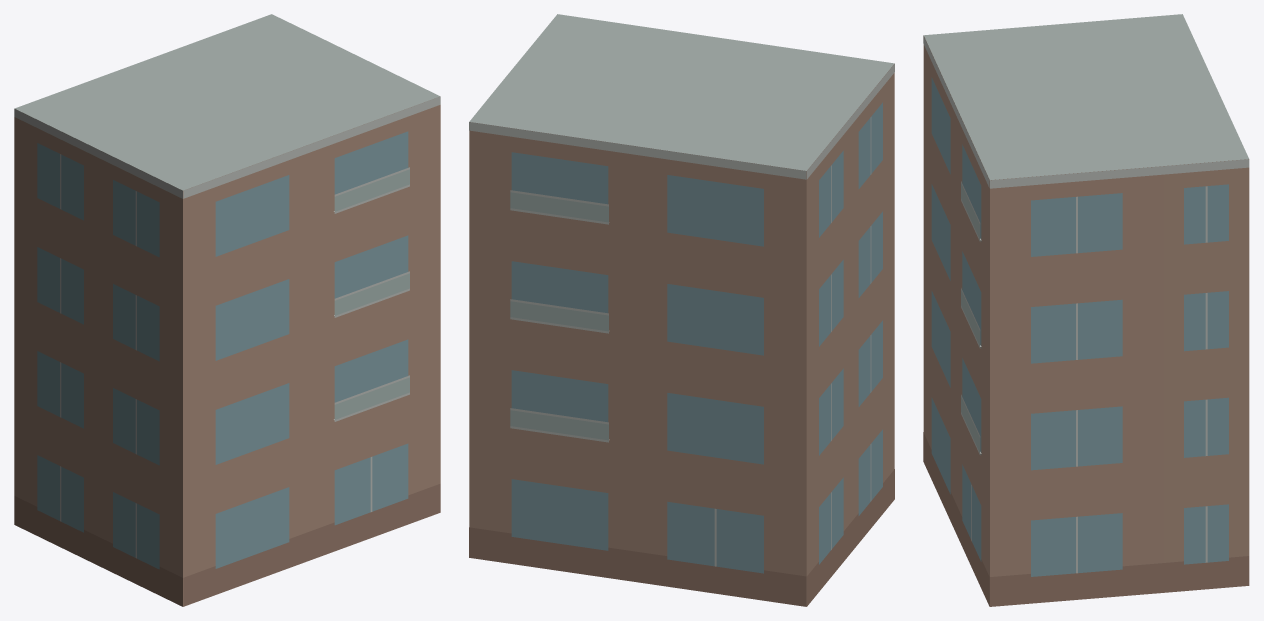
Rendered from residential-15ebc504-93a2-4a83-a17e-9498c3f71a9b.glb.
3 renders of one model, left to right at view 1: azimuth 30°, elevation 25°; view 2: azimuth 150°, elevation 25°; view 3: azimuth 270°, elevation 25°, orthographic. The views are drawn at different scales.
Parts seen in each view (by area): view 1: residential-15ebc504-93a2-4a83-a17e-9498c3f71a9b.tmp; view 2: residential-15ebc504-93a2-4a83-a17e-9498c3f71a9b.tmp; view 3: residential-15ebc504-93a2-4a83-a17e-9498c3f71a9b.tmp.
Boxes of the visible parts, x1,y1,x2,y2 form: residential-15ebc504-93a2-4a83-a17e-9498c3f71a9b.tmp: [14, 14, 440, 606]; residential-15ebc504-93a2-4a83-a17e-9498c3f71a9b.tmp: [469, 14, 894, 606]; residential-15ebc504-93a2-4a83-a17e-9498c3f71a9b.tmp: [923, 14, 1249, 606].
Bounding box in the file's own units: 10.2 × 12.2 × 8.45.
